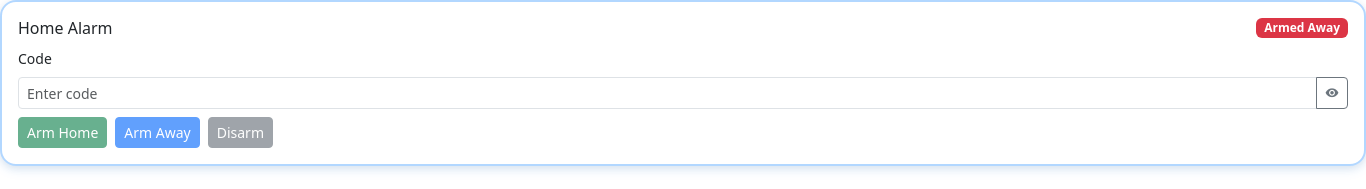
Test: HaAlarmPanel.vue › should enable disarm button when armed and code is entered
Type "1234" into the password field with id "alarm-code" at (668, 93), box [18,77,1317,109]
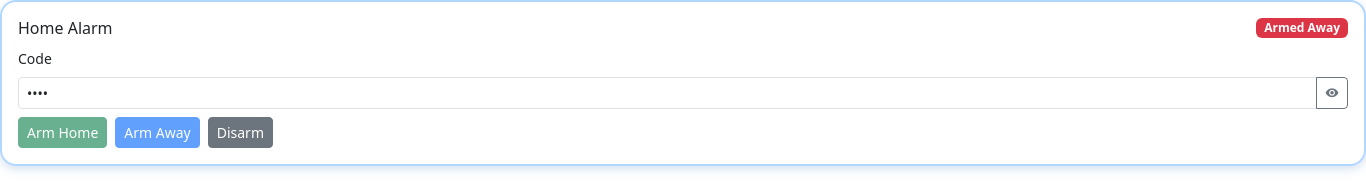
Check: the button "Disarm" is enabled, box [208,117,273,148]
